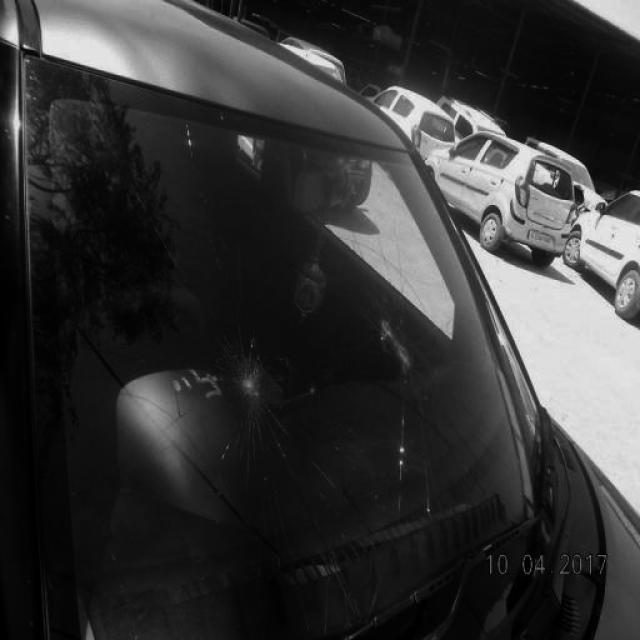car damage: (211, 342, 285, 445), (374, 315, 427, 376)
